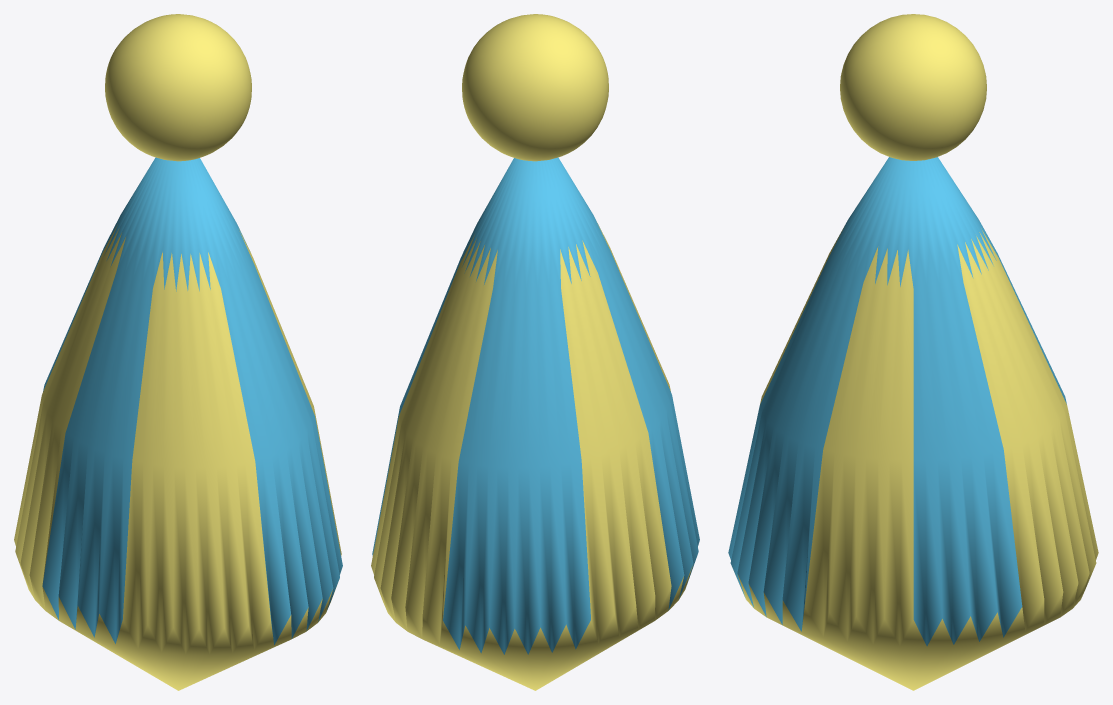
File: hat_party.glb
3 renders of one model, left to right at view 1: azimuth 30°, elevation 25°; view 2: azimuth 150°, elevation 25°; view 3: azimuth 270°, elevation 25°, orthographic.
Parts seen in each view (by area): view 1: party; view 2: party; view 3: party.
Boxes of the visible parts, box(x1,y1,x2,y2) form: party: box(14, 14, 342, 690); party: box(371, 14, 699, 690); party: box(728, 14, 1098, 690).
Bounding box in the file's own units: 0.1255 × 0.2954 × 0.1479.
